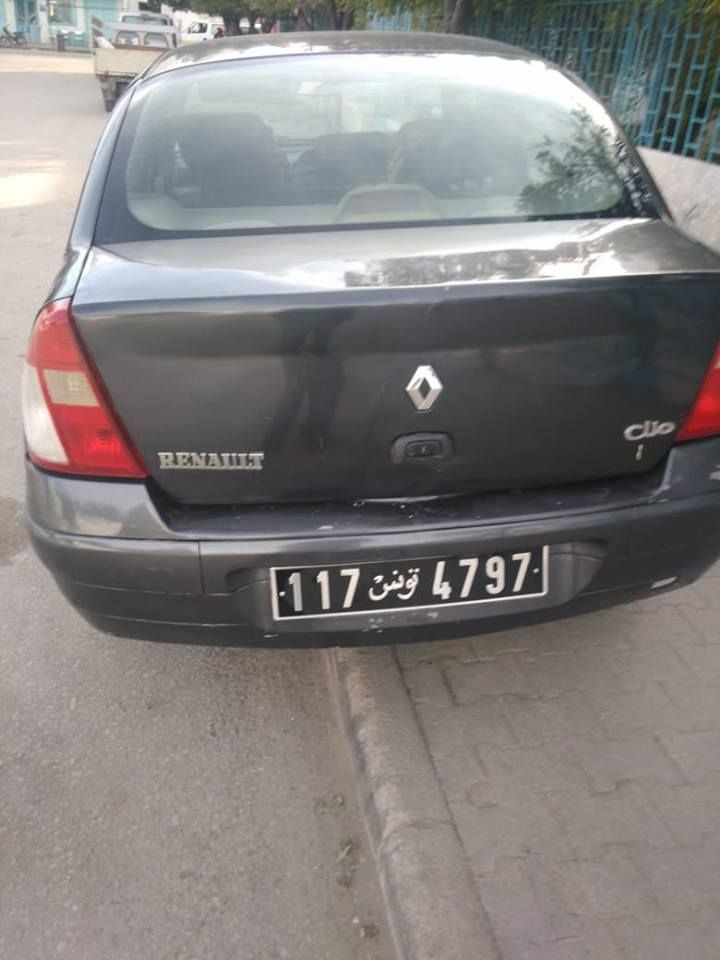LP: (267, 543, 551, 624)
